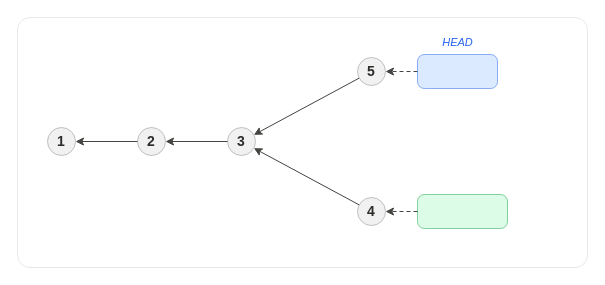
Image size: 605x285. Some labels were removed from this diagram. The shapes that lost their labels are listed below. From the top down, each one's box as (x1, y1, x2, y2) in pixels, then its label:
(417, 54, 497, 88): *main
(417, 194, 507, 228): bugfix
